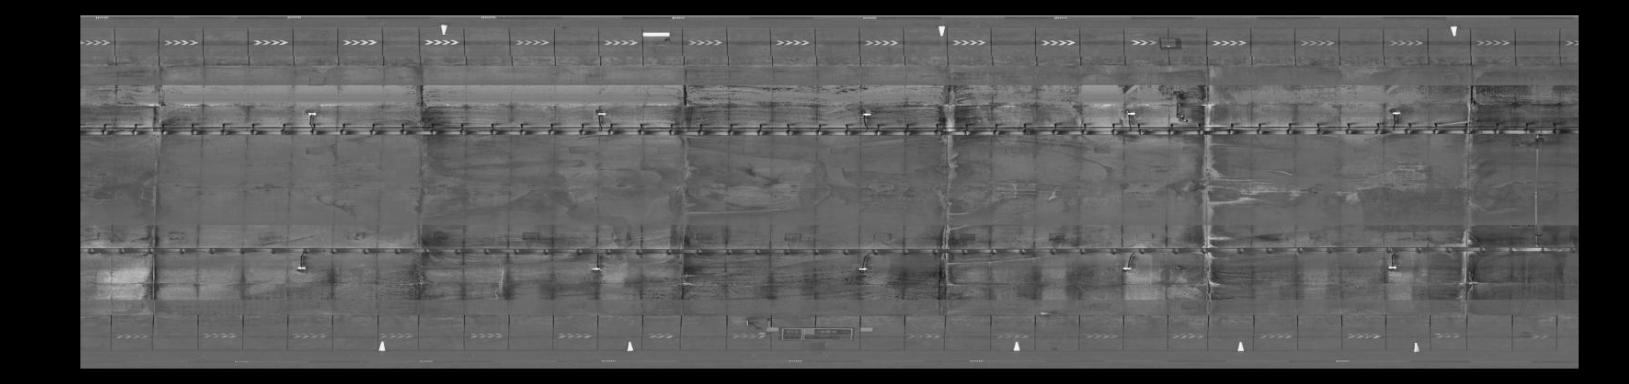light: (1378, 260, 1403, 276), (1119, 109, 1141, 120), (1116, 263, 1138, 274), (292, 260, 310, 274), (852, 264, 873, 274), (1386, 107, 1403, 119), (588, 263, 606, 274), (857, 109, 874, 120), (302, 110, 322, 119), (593, 109, 611, 118)
